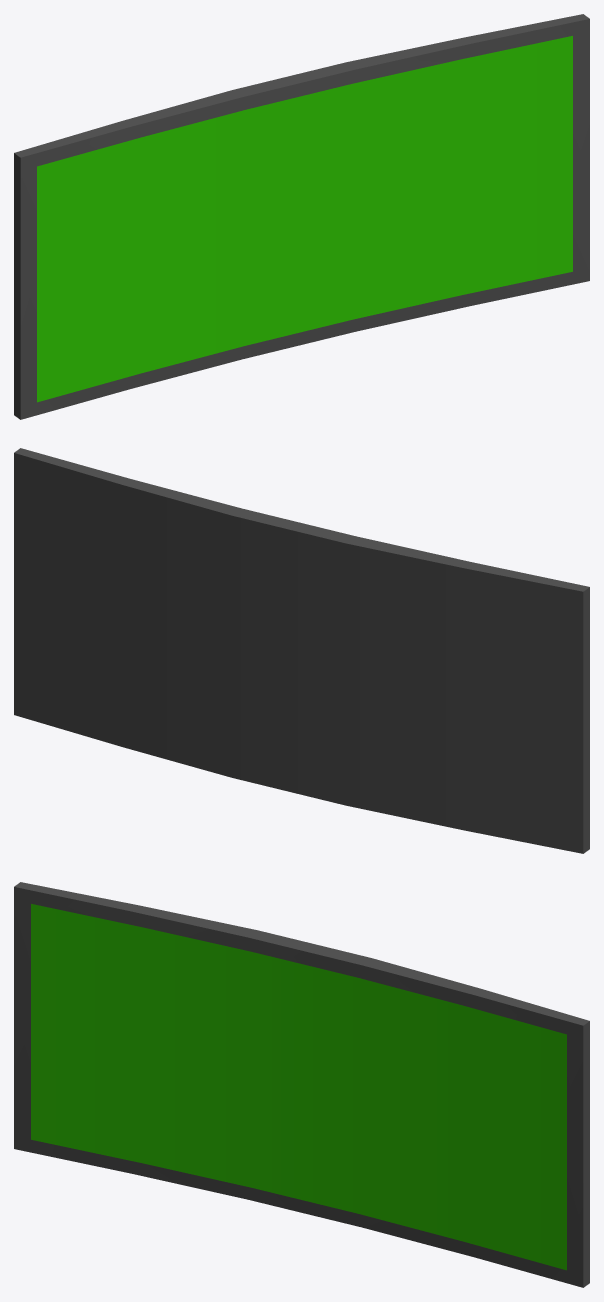
3 renders of one model, top to bottom at view 1: azimuth 30°, elevation 25°; view 2: azimuth 150°, elevation 25°; view 3: azimuth 330°, elevation 25°, orthographic.
Visible parts, largest first — view 1: Cube; view 2: Cube; view 3: Cube.
Boxes of the visible parts, <box> form: Cube: <box>14,14,589,419</box>; Cube: <box>14,448,589,853</box>; Cube: <box>14,882,589,1287</box>.
Size of the model in its own units: 400 by 176 by 20.
